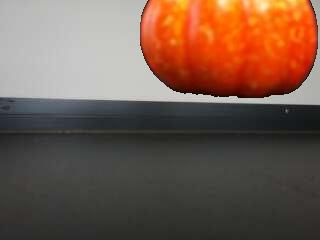Pumpkin: (138, 0, 320, 100)
